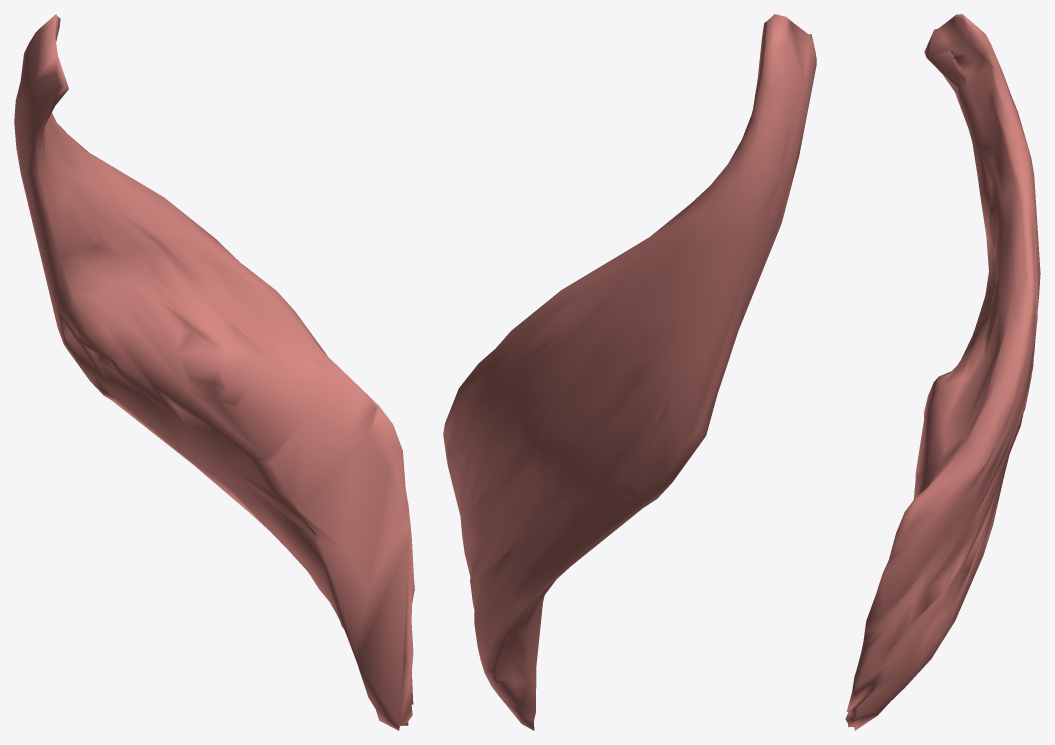
3 renders of one model, left to right at view 1: azimuth 30°, elevation 25°; view 2: azimuth 150°, elevation 25°; view 3: azimuth 270°, elevation 25°, orthographic. The views are drawn at different scales.
Visible parts, largest first — view 1: ZA_c801457e1b47af30; view 2: ZA_c801457e1b47af30; view 3: ZA_c801457e1b47af30.
Part boxes in pixels (x1,y1,x2,y2): ZA_c801457e1b47af30: [14, 14, 414, 730]; ZA_c801457e1b47af30: [443, 14, 816, 730]; ZA_c801457e1b47af30: [845, 14, 1040, 730].
Size of the model in its own units: 0.0592 by 0.1251 by 0.0365.
